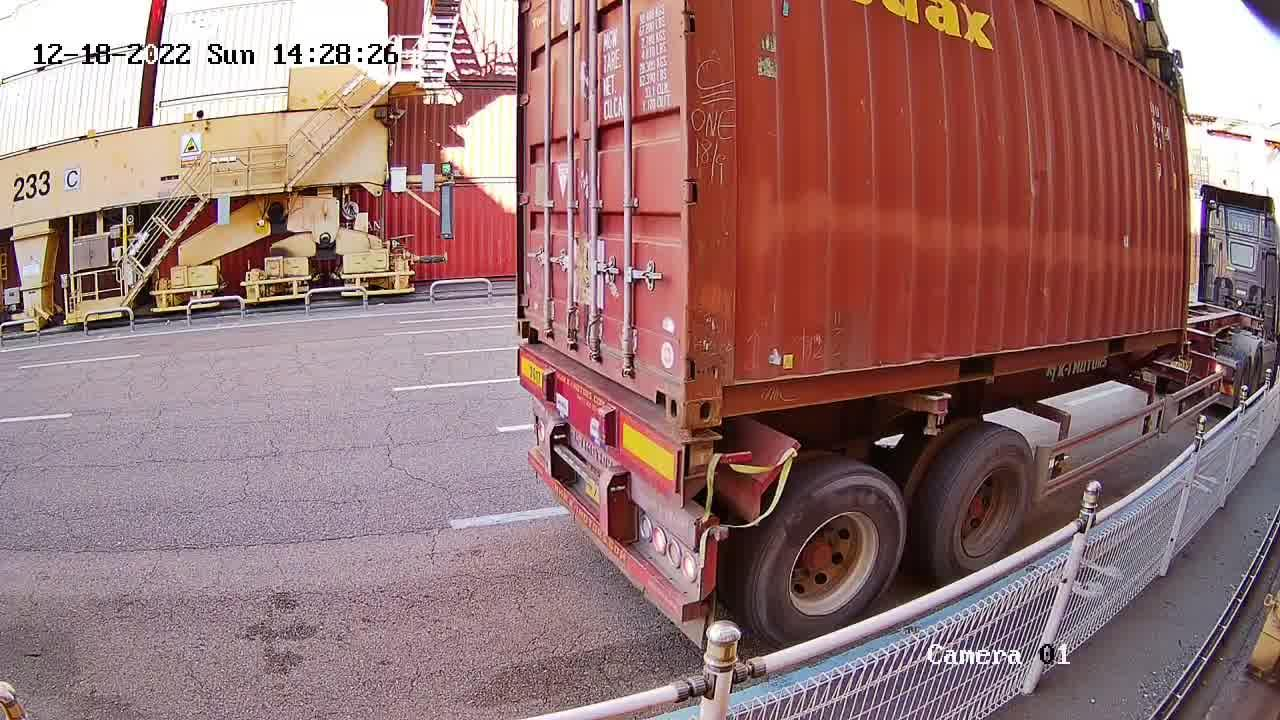Chassis: (517, 347, 690, 505)
Cone: (687, 428, 718, 484)
Hole_L: (687, 337, 764, 426), (515, 287, 550, 345)
Hole_R: (634, 327, 686, 426)
Tire: (753, 476, 903, 647), (936, 430, 1036, 581)
